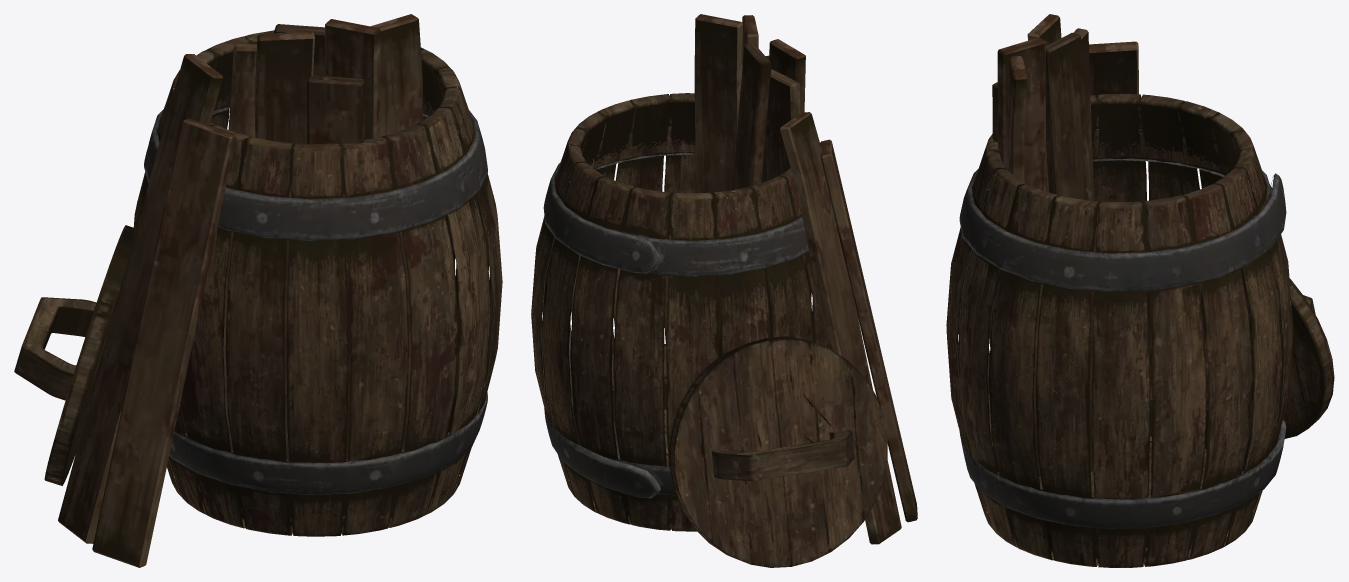
3 views of the same model, side by side, from view 1: azimuth 30°, elevation 25°; view 2: azimuth 150°, elevation 25°; view 3: azimuth 270°, elevation 25° (orthographic). The views are drawn at different scales.
Parts seen in each view (by area): view 1: SM_Dec_Garou_Barrel_02_LOD0; view 2: SM_Dec_Garou_Barrel_02_LOD0; view 3: SM_Dec_Garou_Barrel_02_LOD0.
Part boxes in pixels (x1,y1,x2,y2): SM_Dec_Garou_Barrel_02_LOD0: (14, 14, 502, 567); SM_Dec_Garou_Barrel_02_LOD0: (531, 14, 917, 567); SM_Dec_Garou_Barrel_02_LOD0: (946, 14, 1334, 567).
Bounding box in the file's own units: 1.02 × 1.21 × 0.9052.
1 material, 1 textured.
